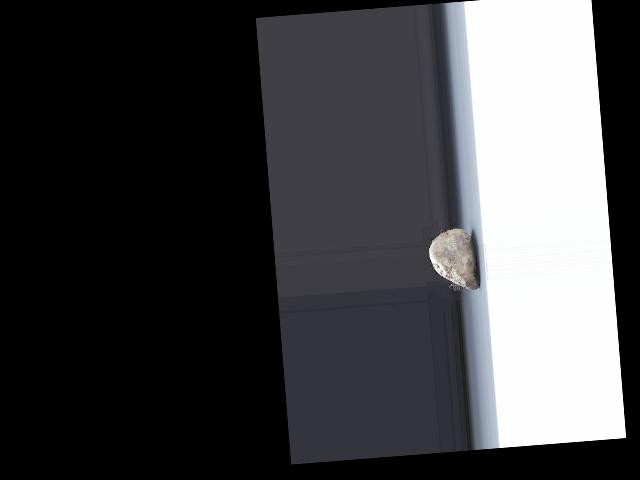beet: (428, 226, 479, 292)
